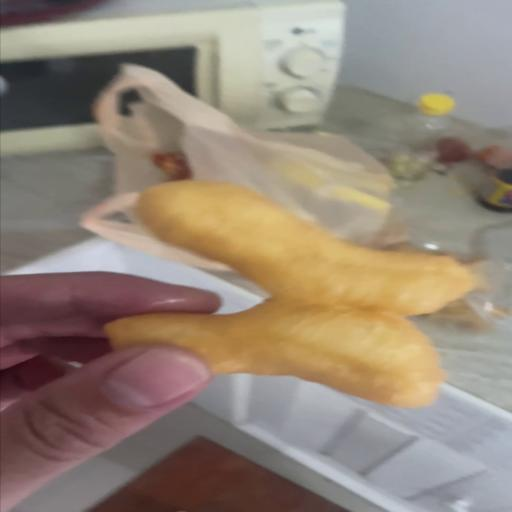street_golden_good: (105, 182, 483, 405)
